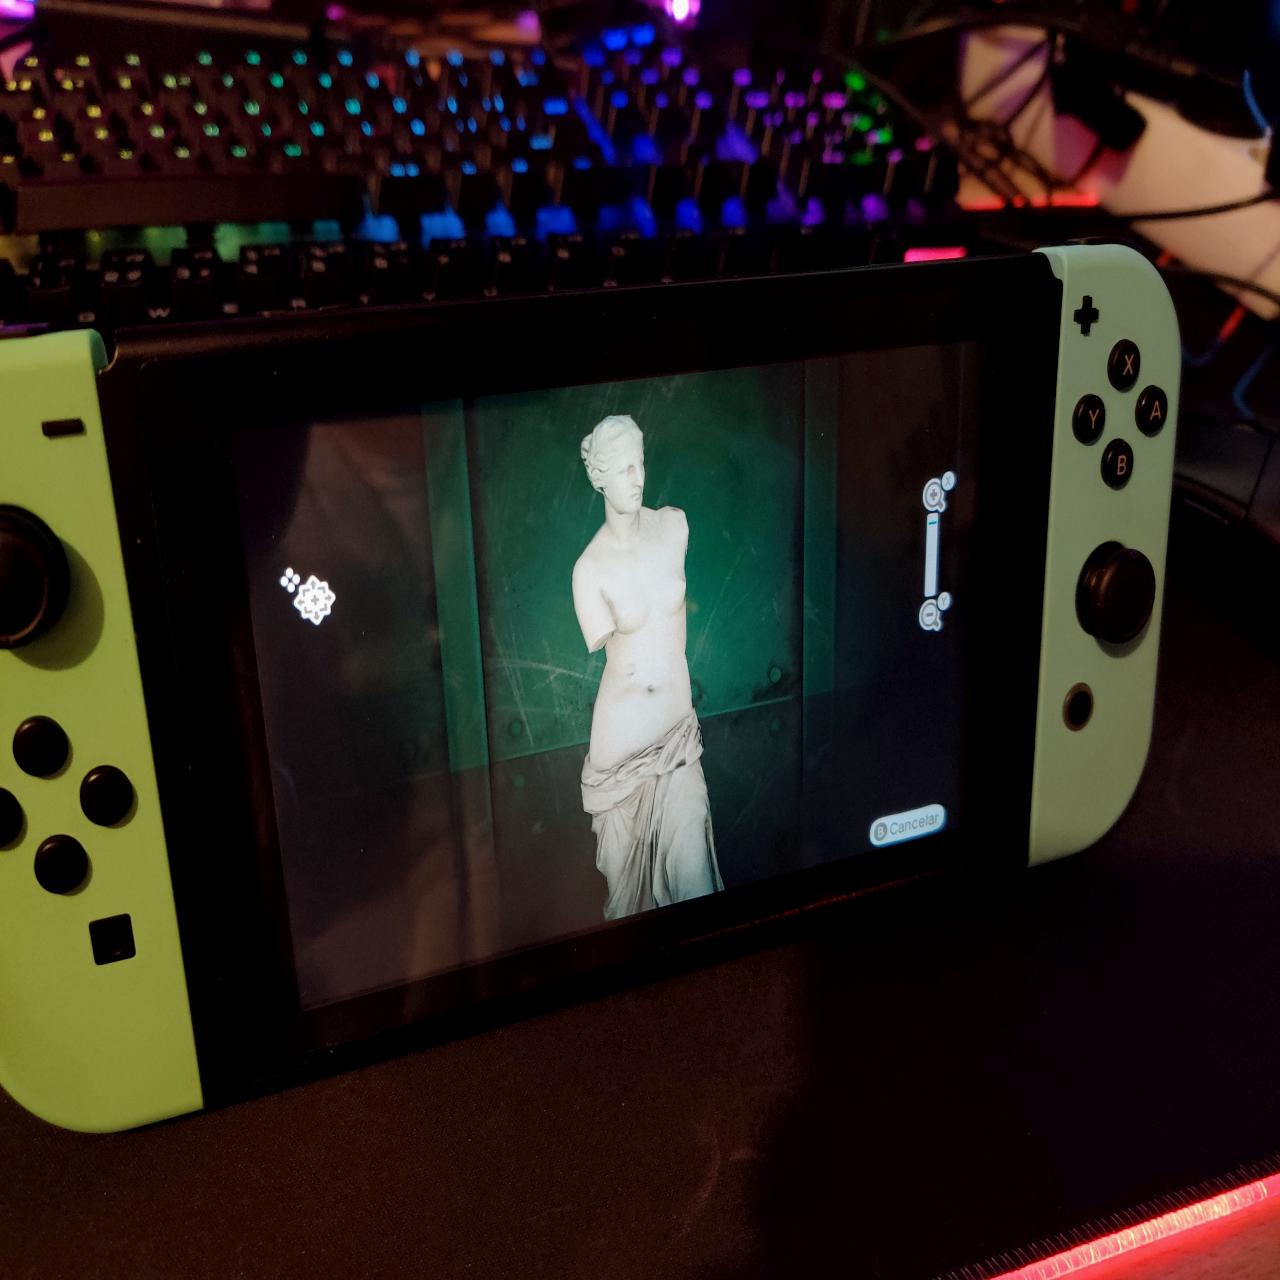Milo: (573, 411, 729, 920)
